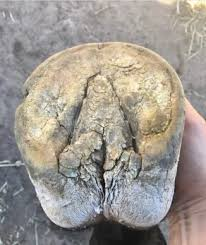horsesole: (16, 42, 186, 148)
